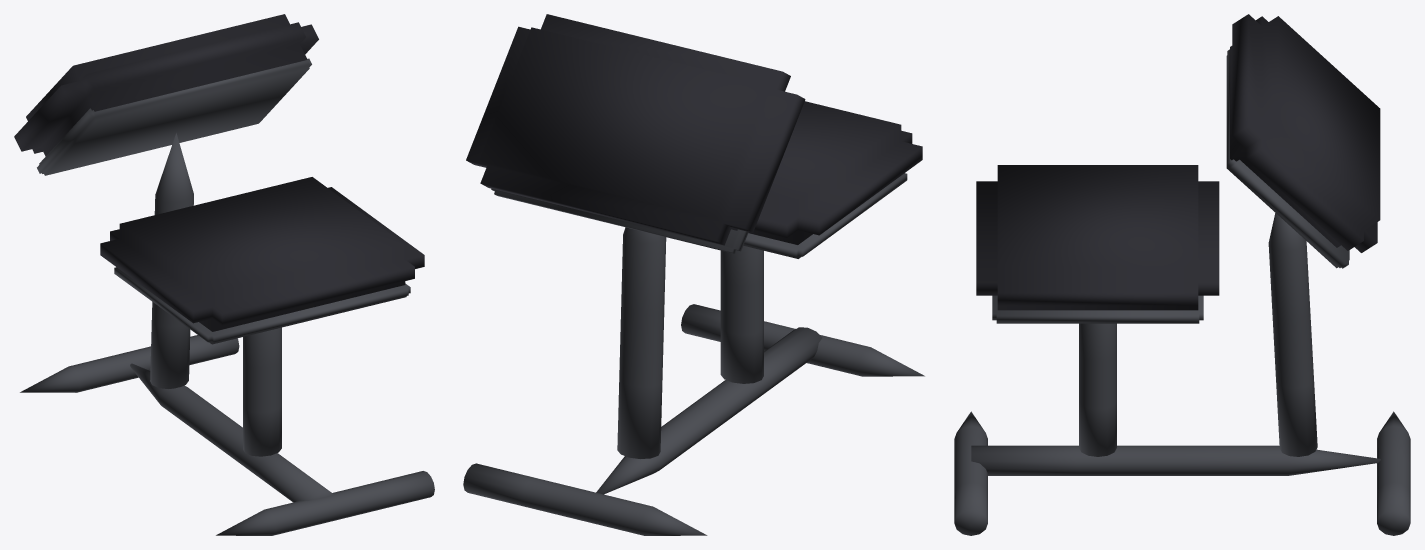
Rendered from RubberBench.glb.
3 renders of one model, left to right at view 1: azimuth 30°, elevation 25°; view 2: azimuth 150°, elevation 25°; view 3: azimuth 270°, elevation 25°, orthographic. The views are drawn at different scales.
Parts seen in each view (by area): view 1: RubberBench; view 2: RubberBench; view 3: RubberBench.
Part boxes in pixels (box(x1,y1,x2,y2)): RubberBench: box(14, 14, 434, 535); RubberBench: box(463, 14, 924, 535); RubberBench: box(954, 14, 1410, 535).
Bounding box in the file's own units: 2.14 × 3.11 × 3.13.
1 material, 1 textured.
